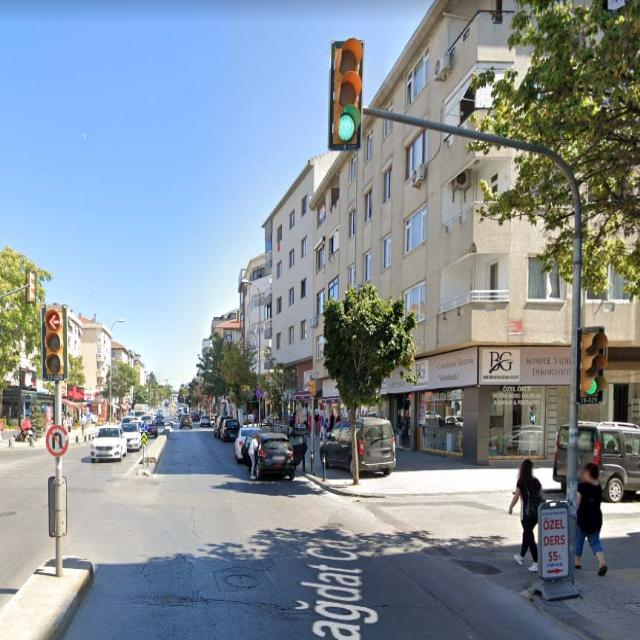yesil: (329, 38, 362, 151), (576, 325, 605, 403)
